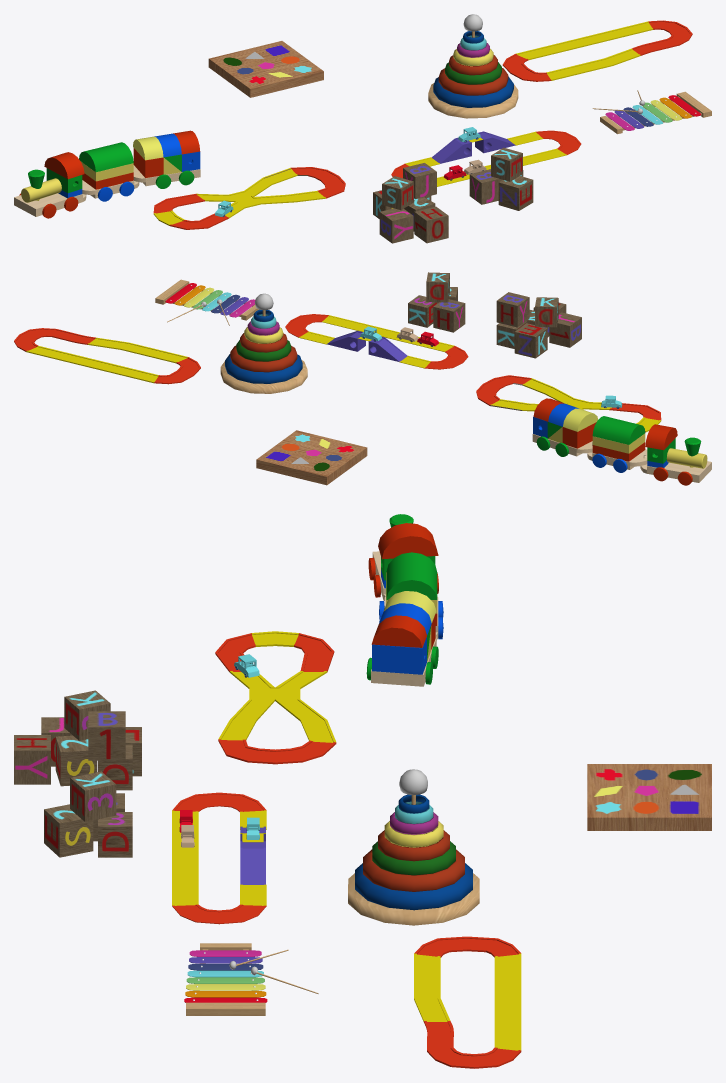
The model's file is toy14.fbx.
The picture shows the model from 3 angles, top to bottom: view 1: azimuth 30°, elevation 25°; view 2: azimuth 150°, elevation 25°; view 3: azimuth 270°, elevation 25°; orthographic projection. The views are drawn at different scales.
Parts seen in each view (by area): view 1: train, tower_of_circle, board_shape, road3, road2, road1, instrument, cube2_low2, cube2_low1, cube3_low2, cube1_low1, cube1_low3 (+2 smaller); view 2: train, tower_of_circle, board_shape, road3, road1, road2, instrument, cube2_low, cube3_low, cube2_low3, cube2_low1, cube1_low2 (+3 smaller); view 3: tower_of_circle, train, board_shape, road2, road3, road1, instrument, cube3_low2, cube1_low3, cube2_low, cube2_low2, cube3_low1 (+3 smaller).
Boxes of the visible parts, bbox=[...] form: train: bbox=[14, 130, 200, 218]; tower_of_circle: bbox=[428, 14, 518, 118]; board_shape: bbox=[208, 41, 323, 97]; road3: bbox=[502, 20, 692, 81]; road2: bbox=[153, 167, 345, 229]; road1: bbox=[391, 130, 581, 186]; instrument: bbox=[592, 90, 711, 134]; cube2_low2: bbox=[414, 206, 448, 243]; cube2_low1: bbox=[379, 208, 413, 243]; cube3_low2: bbox=[498, 176, 533, 210]; cube1_low1: bbox=[382, 176, 413, 210]; cube1_low3: bbox=[491, 147, 522, 181]; train: bbox=[532, 398, 711, 485]; tower_of_circle: bbox=[220, 293, 307, 393]; board_shape: bbox=[256, 430, 367, 485]; road3: bbox=[14, 328, 200, 384]; road1: bbox=[285, 314, 468, 369]; road2: bbox=[476, 375, 661, 432]; instrument: bbox=[155, 279, 258, 325]; cube2_low: bbox=[496, 292, 529, 327]; cube3_low: bbox=[514, 323, 547, 358]; cube2_low3: bbox=[433, 299, 465, 332]; cube2_low1: bbox=[549, 312, 581, 347]; cube1_low2: bbox=[408, 295, 438, 327]; tower_of_circle: bbox=[348, 769, 479, 925]; train: bbox=[366, 514, 443, 686]; board_shape: bbox=[587, 764, 711, 830]; road2: bbox=[215, 631, 336, 764]; road3: bbox=[414, 936, 521, 1068]; road1: bbox=[172, 792, 266, 924]; instrument: bbox=[184, 943, 318, 1015]; cube3_low2: bbox=[44, 804, 93, 857]; cube1_low3: bbox=[70, 771, 116, 821]; cube2_low: bbox=[88, 711, 125, 760]; cube2_low2: bbox=[14, 735, 50, 784]; cube3_low1: bbox=[55, 735, 97, 786].
Size of the model in its own units: 88.63 by 10.73 by 51.92.
